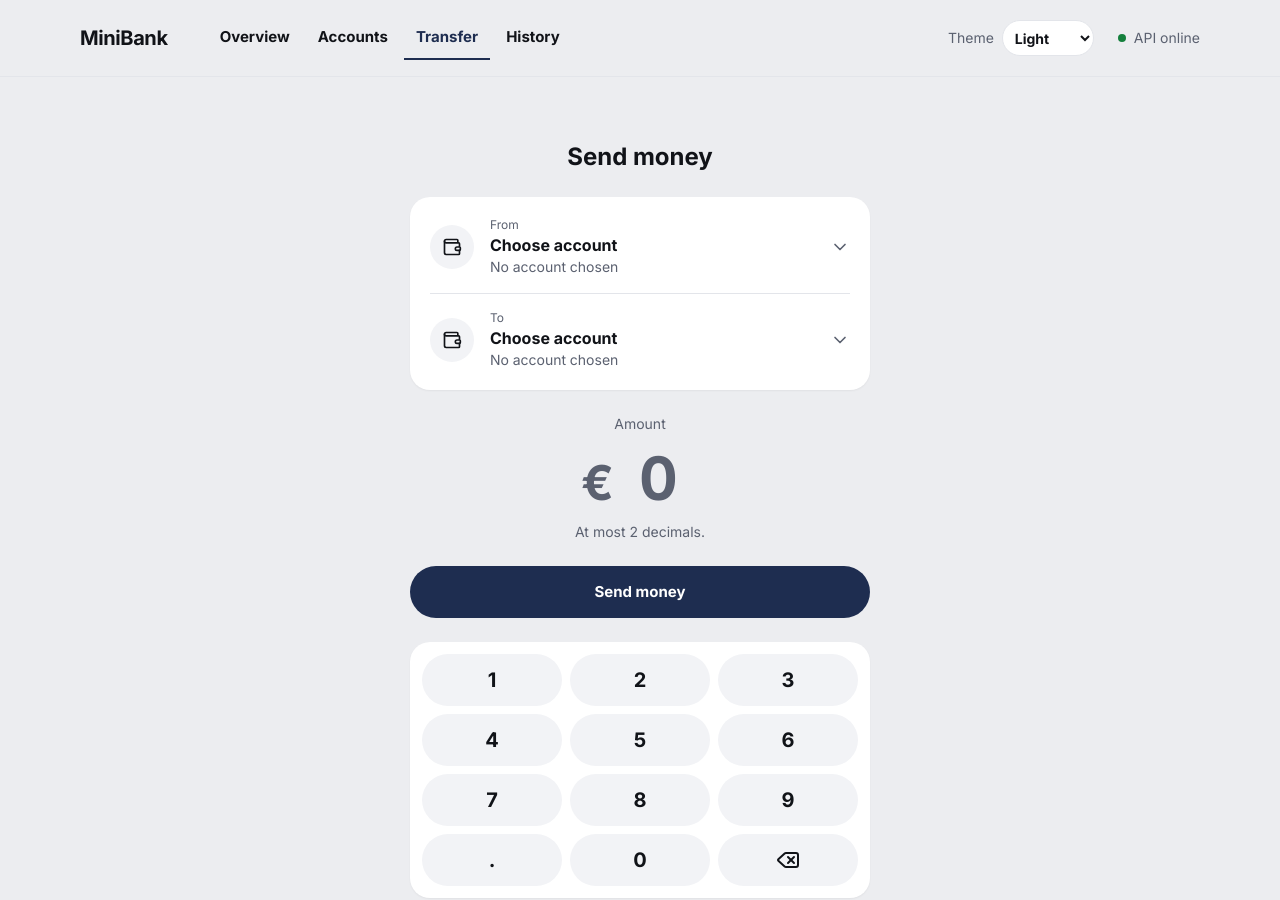
TransferPage › sends an Idempotency-Key and shows the result
Select "main" in the dropdown labelled "From" at coordinates (652, 245), box top-left (490, 233), bottom-right (814, 257)
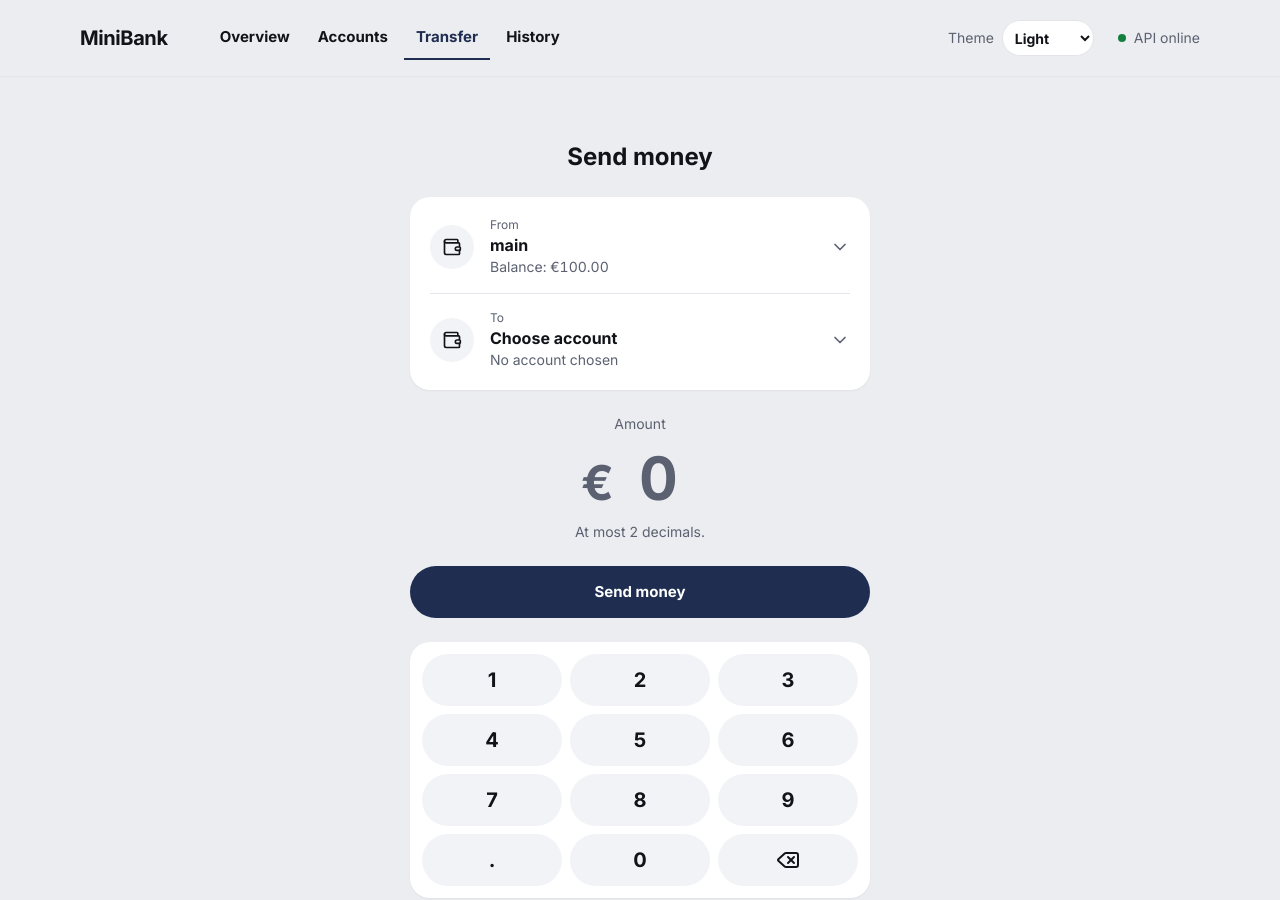
Select "savings" in the dropdown labelled "To" at coordinates (652, 338), box top-left (490, 326), bottom-right (814, 350)
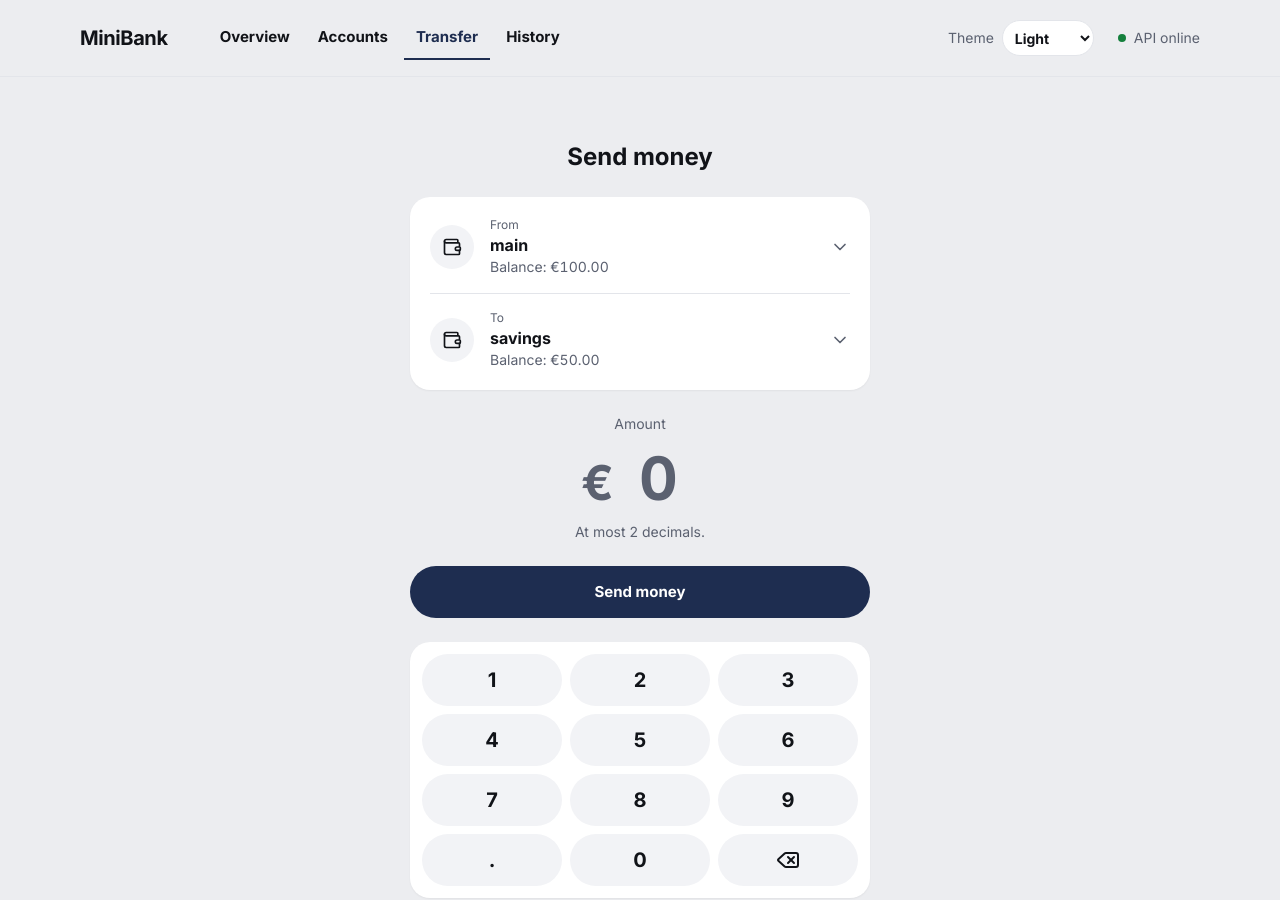
Type "25" into the field labelled "Amount" at coordinates (658, 478), box top-left (618, 442), bottom-right (699, 514)
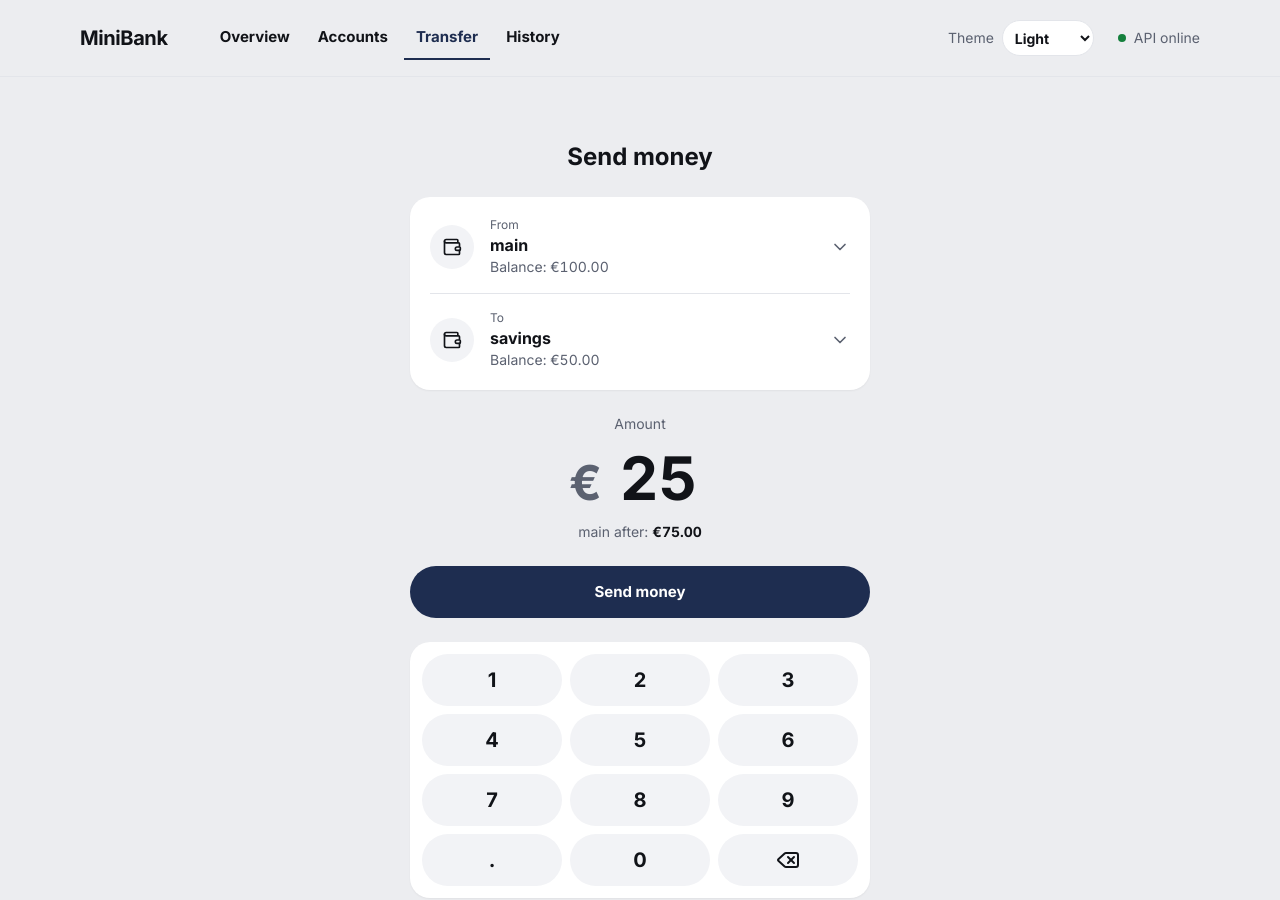
Click the button "Send money" at coordinates (640, 592), box top-left (410, 566), bottom-right (870, 618)
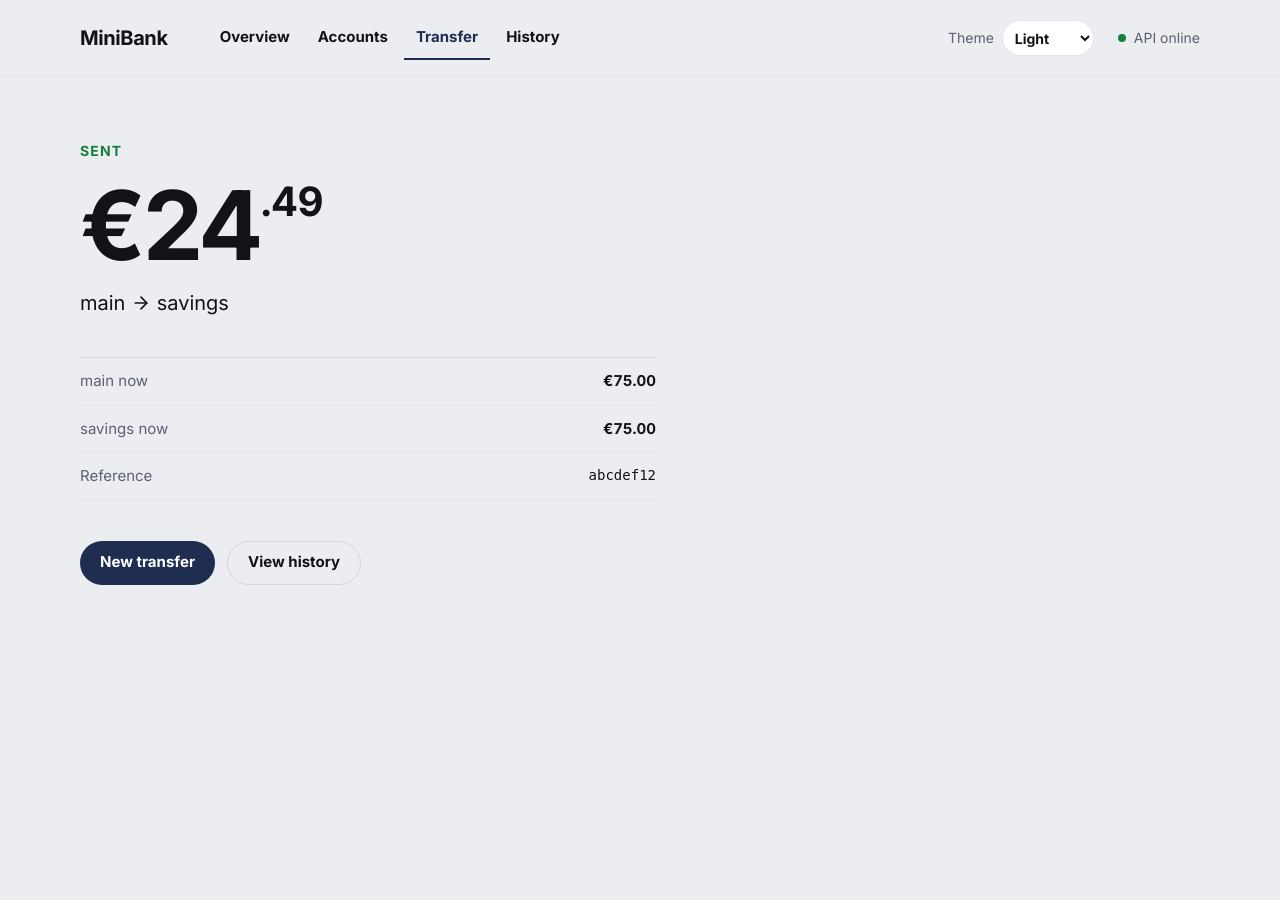
expect the text "Sent" is shown: met, box top-left (80, 142), bottom-right (122, 159)
expect the text "abcdef12" is shown: met, box top-left (368, 453), bottom-right (656, 500)
